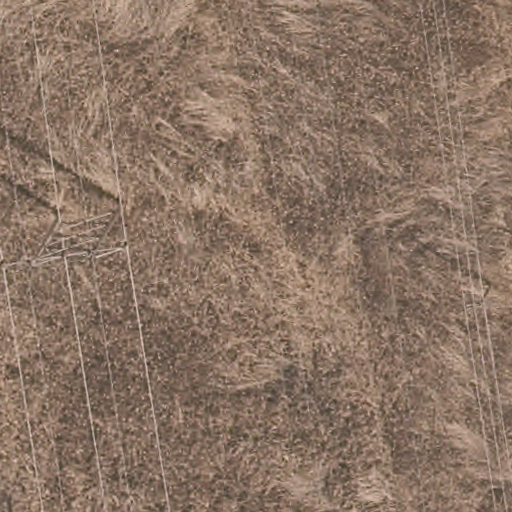DT: (1, 195, 133, 286), (452, 284, 494, 318)
